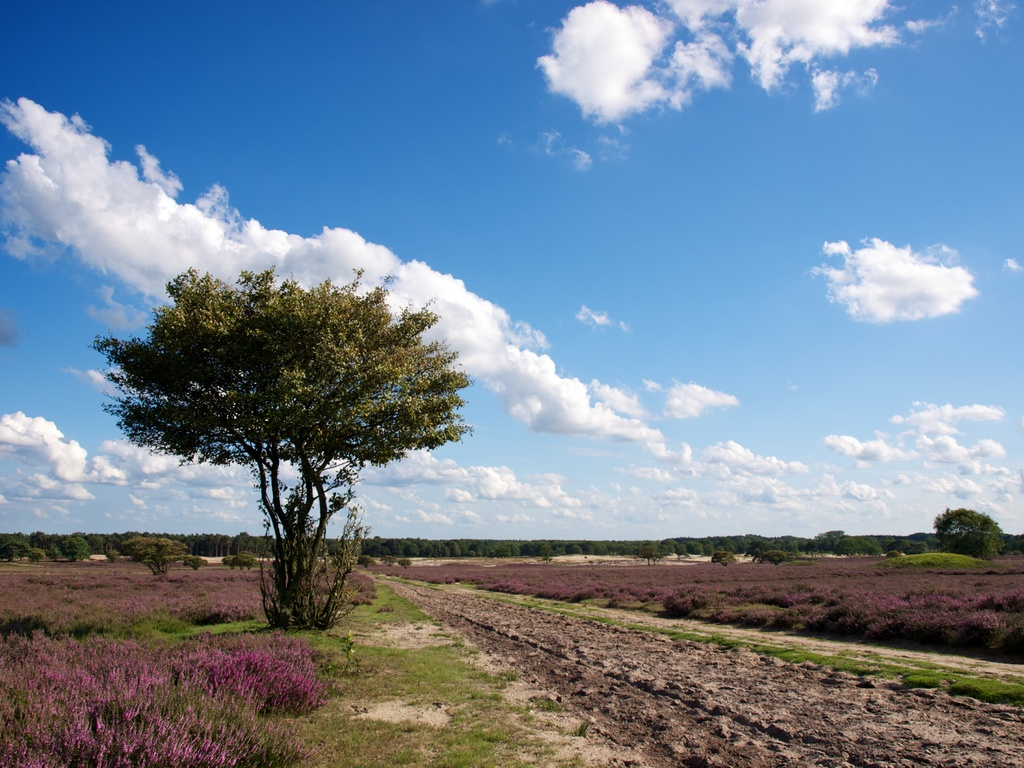Tree: (108, 243, 458, 631), (0, 497, 1020, 586)
